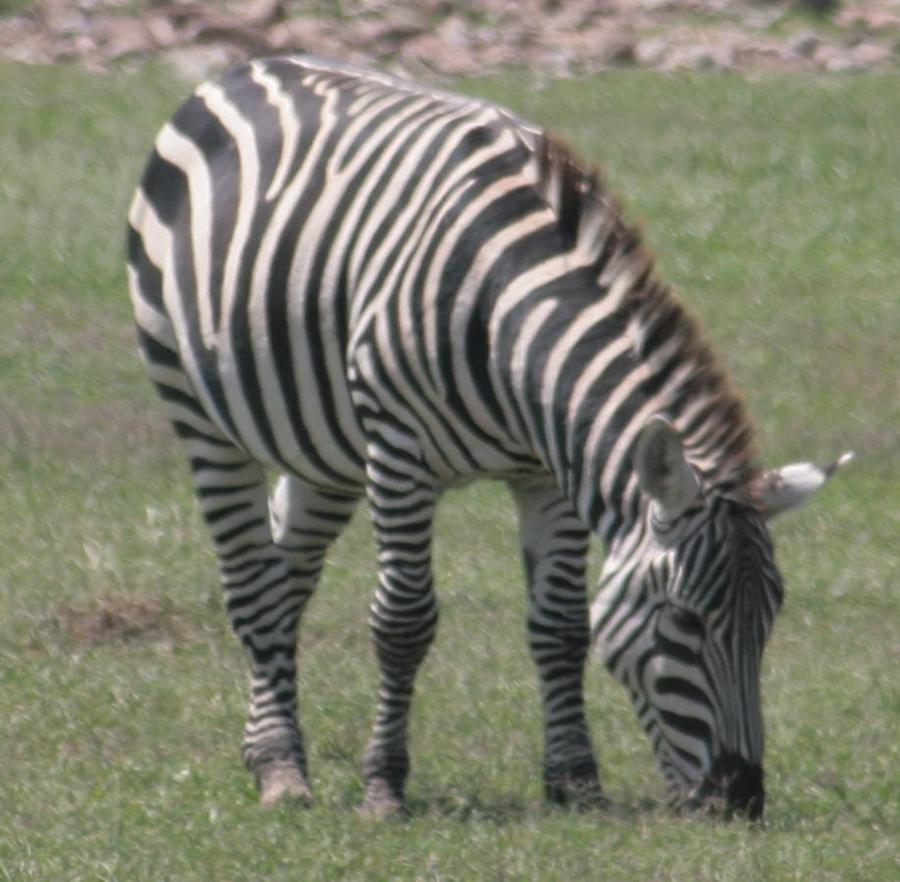zebra_plains: (77, 18, 543, 589)
